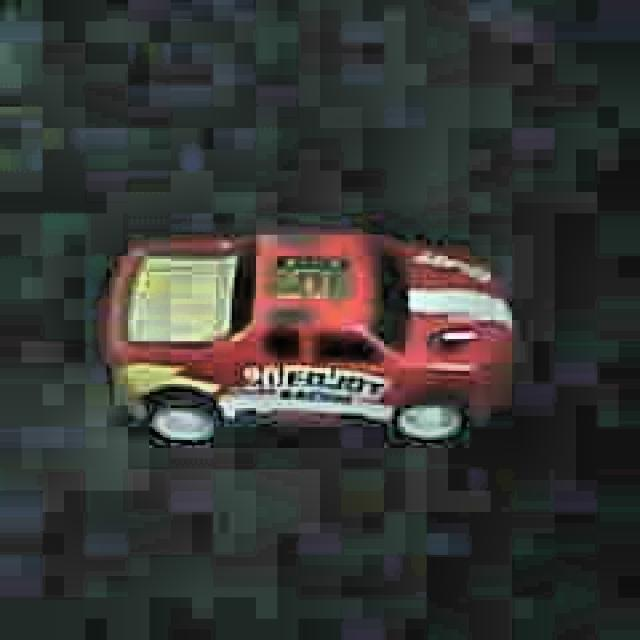car: (103, 225, 516, 457)
